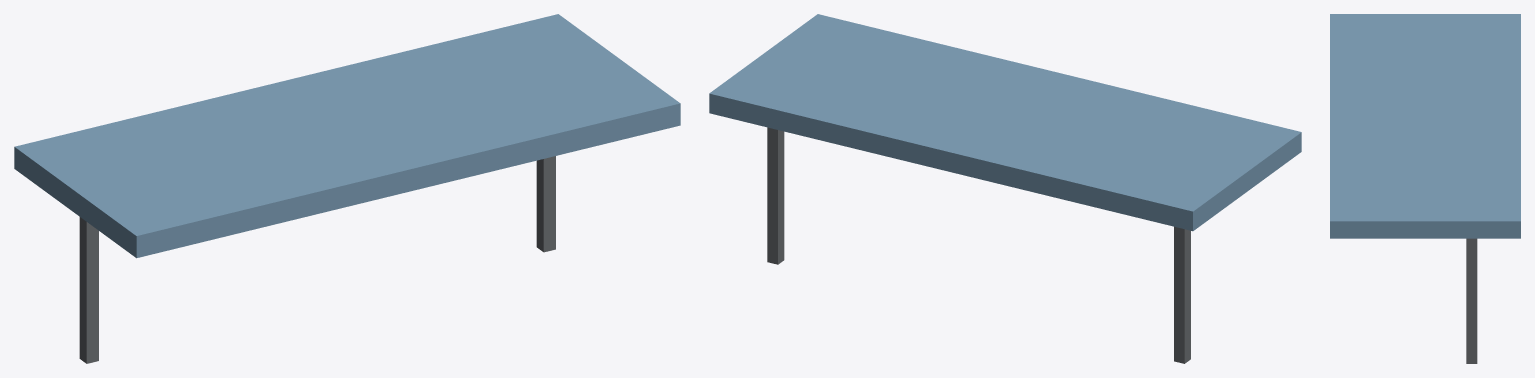
Rendered from awning_02.glb.
3 renders of one model, left to right at view 1: azimuth 30°, elevation 25°; view 2: azimuth 150°, elevation 25°; view 3: azimuth 270°, elevation 25°, orthographic. The views are drawn at different scales.
Parts seen in each view (by area): view 1: canopy, brace-0.7559999999999999, brace0.7559999999999999; view 2: canopy, brace0.7559999999999999, brace-0.7559999999999999; view 3: canopy, brace0.7559999999999999.
Part boxes in pixels (x1=…): canopy: x1=14, y1=14, x2=680, y2=258; brace-0.7559999999999999: x1=79, y1=217, x2=98, y2=363; brace0.7559999999999999: x1=536, y1=156, x2=555, y2=252; canopy: x1=709, y1=14, x2=1301, y2=231; brace0.7559999999999999: x1=767, y1=127, x2=784, y2=264; brace-0.7559999999999999: x1=1174, y1=226, x2=1190, y2=363; canopy: x1=1330, y1=14, x2=1520, y2=238; brace0.7559999999999999: x1=1466, y1=238, x2=1477, y2=363.
Size of the model in its own units: 1.8 by 0.635 by 0.7.
